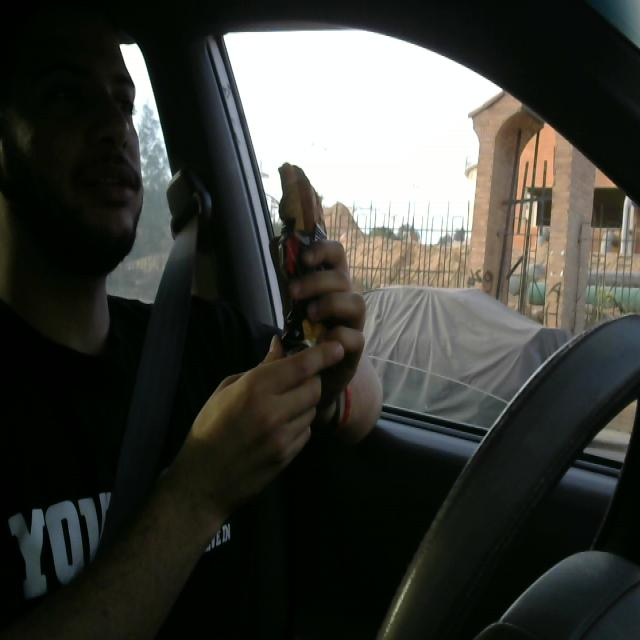eating: (266, 150, 330, 393)
